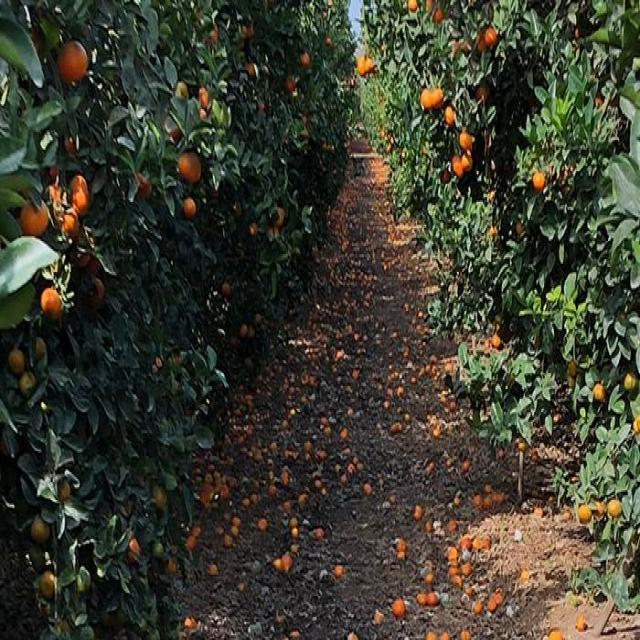Jeruk Sudah Matang: (56, 28, 92, 96), (63, 160, 94, 227), (20, 189, 50, 244), (34, 278, 69, 321), (456, 126, 476, 154), (420, 87, 438, 113), (442, 104, 459, 130), (457, 148, 475, 171), (429, 80, 441, 109), (533, 168, 544, 194)
